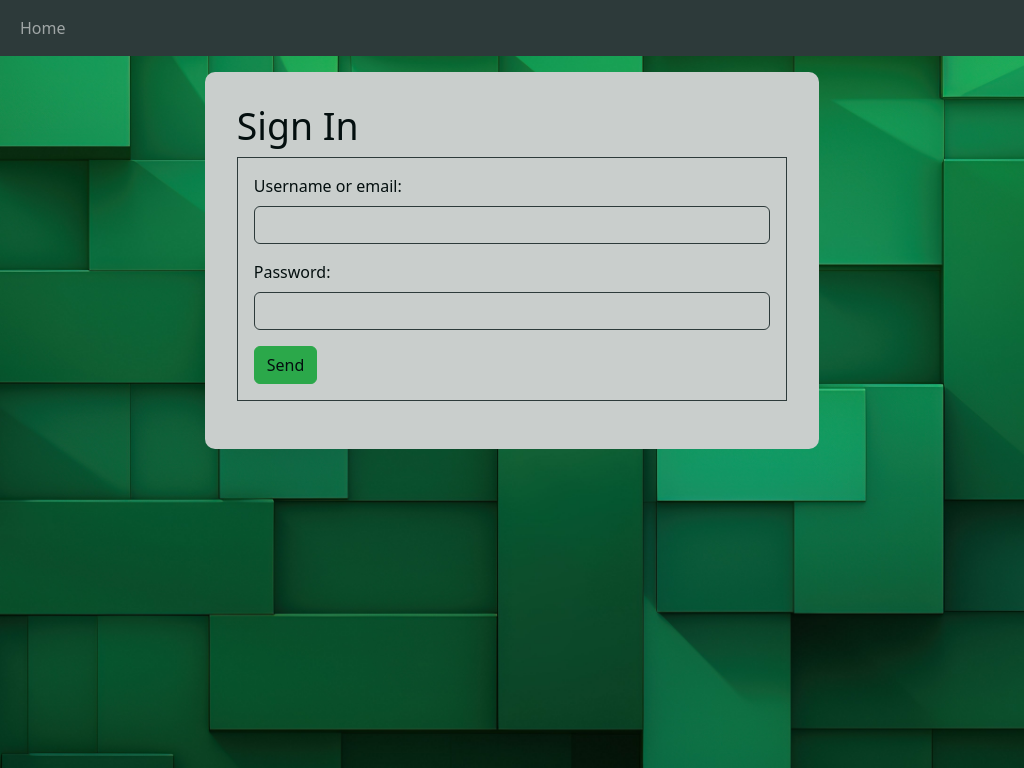
Test: redirects to home page after successful sign-in
Type "alma" into the field labelled "Username or email:".
click(512, 225); type("alma")  # box [254,206,770,244]
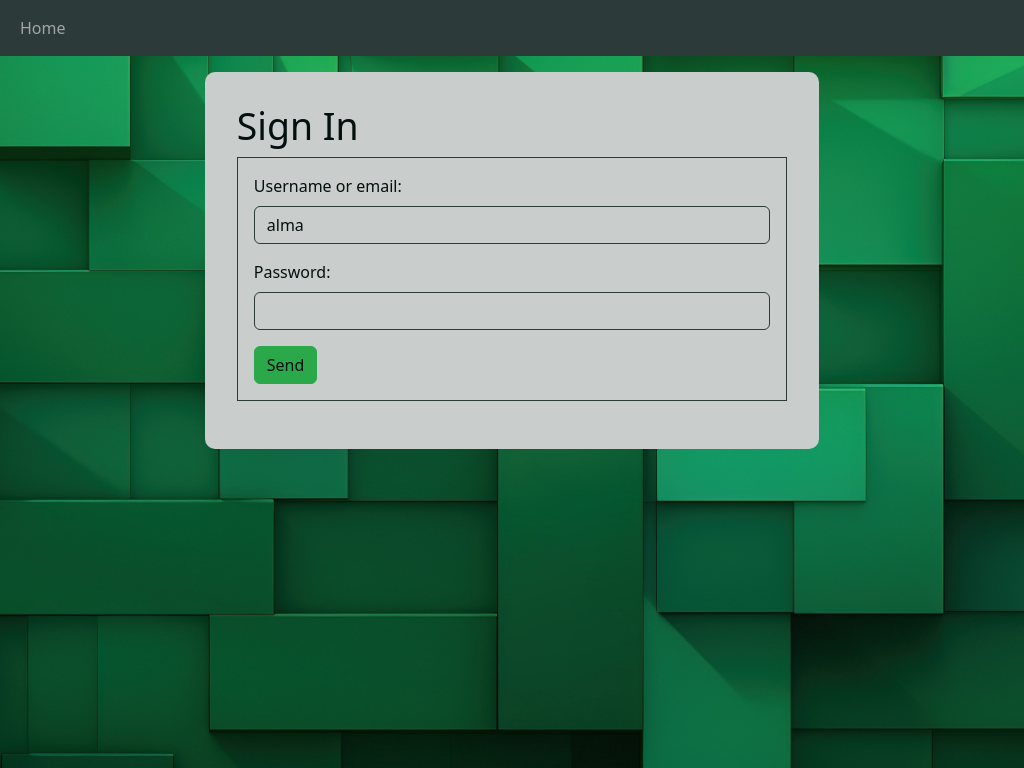
Type "alma12" into the password field labelled "Password:".
click(512, 311); type("alma12")  # box [254,292,770,330]
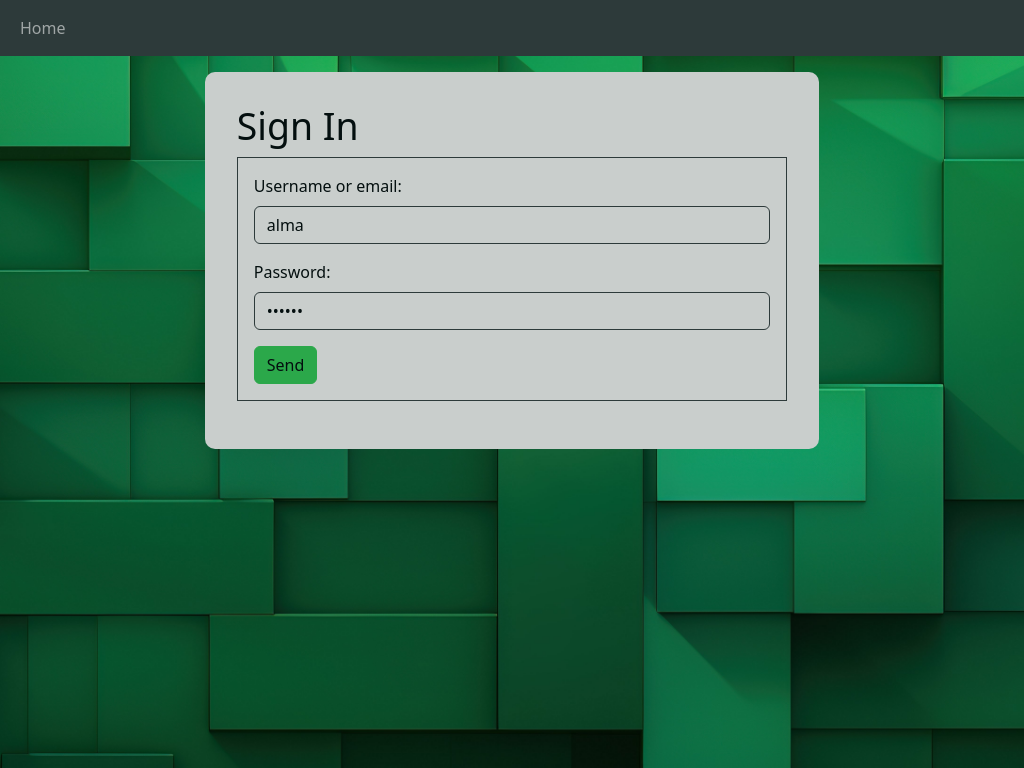
Click the button "Send".
click(286, 365)  # box [254,346,317,384]
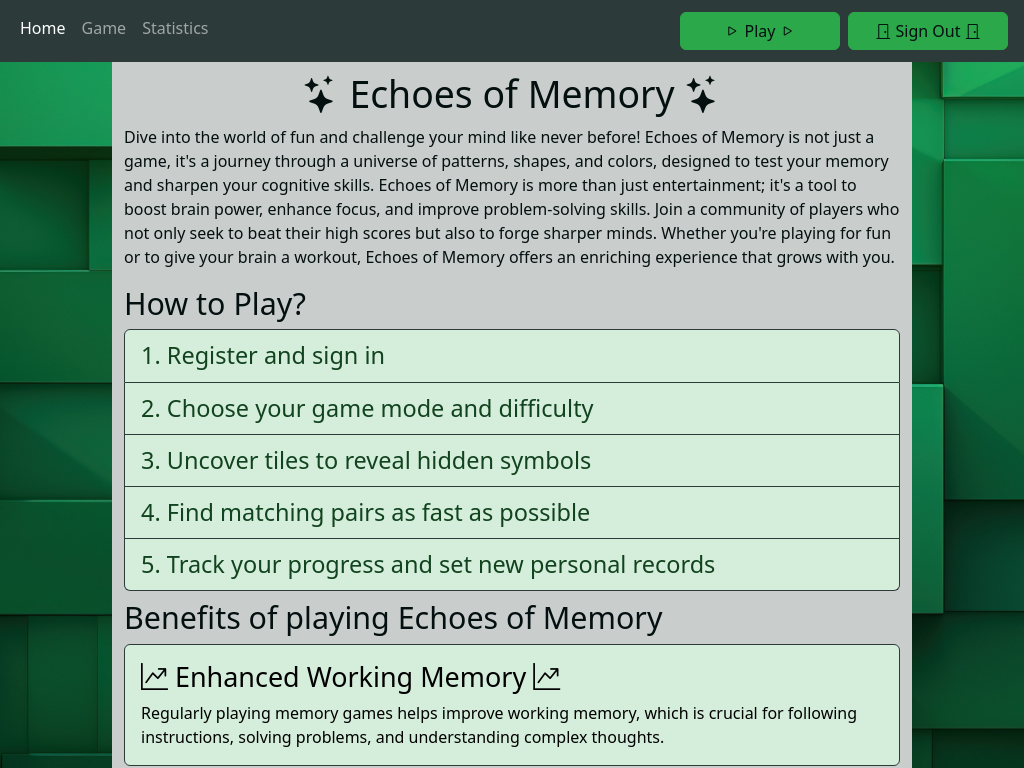
Check: the heading "How to Play?" is shown, box [124,282,306,324]
